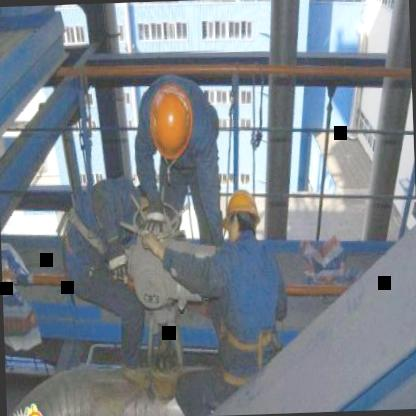helmet: (144, 82, 197, 161), (222, 184, 263, 244)
